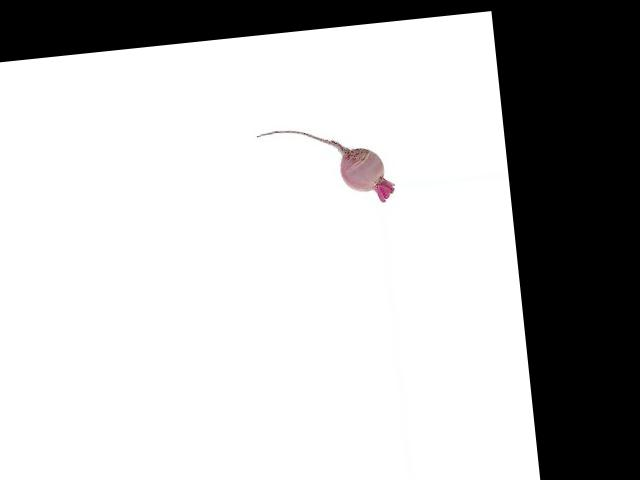beet: (255, 118, 396, 214)
